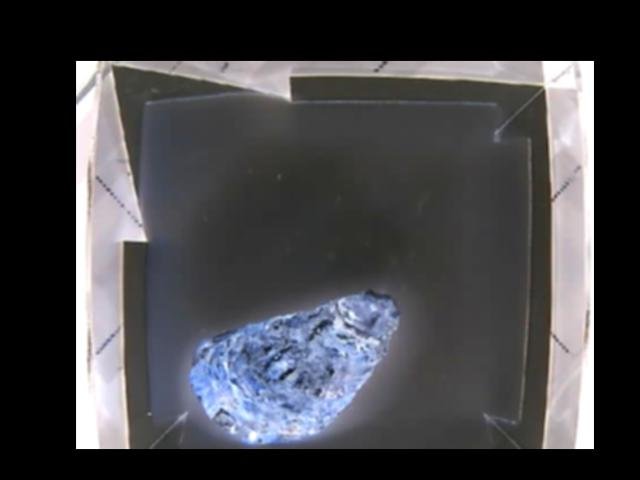Shell: (191, 292, 402, 440)
